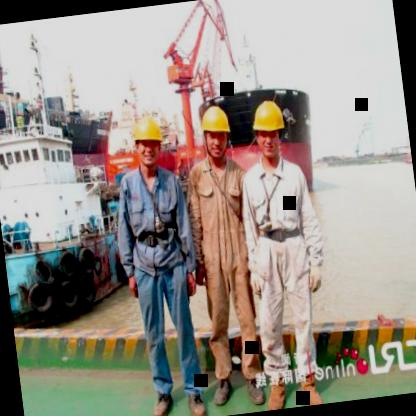helmet: (246, 92, 290, 166), (195, 98, 236, 164), (128, 110, 170, 172)
